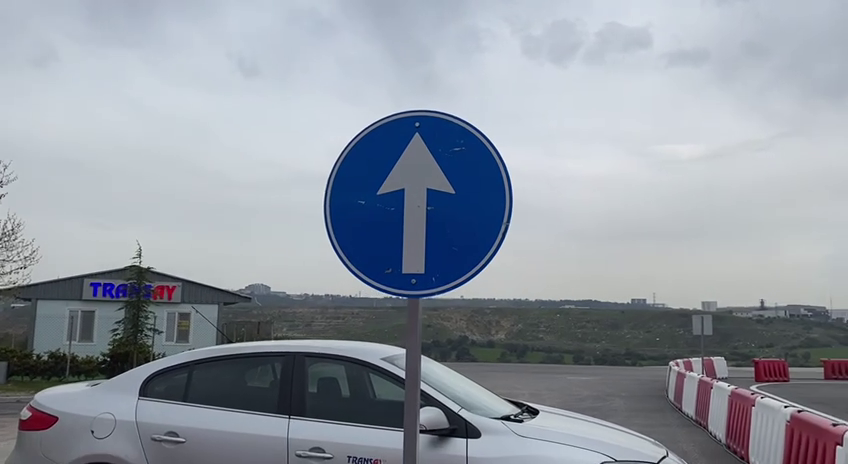forward: (316, 99, 519, 306)
